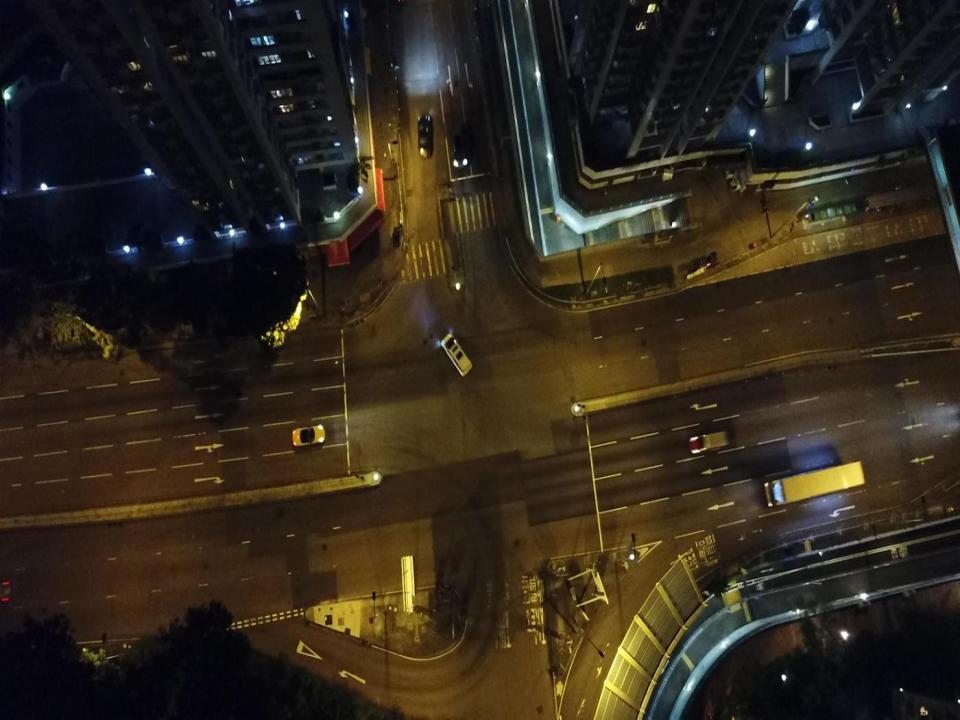bus: (763, 459, 866, 506)
car: (440, 332, 473, 376), (689, 429, 732, 455), (449, 122, 469, 169), (291, 423, 326, 447), (417, 113, 433, 158)
